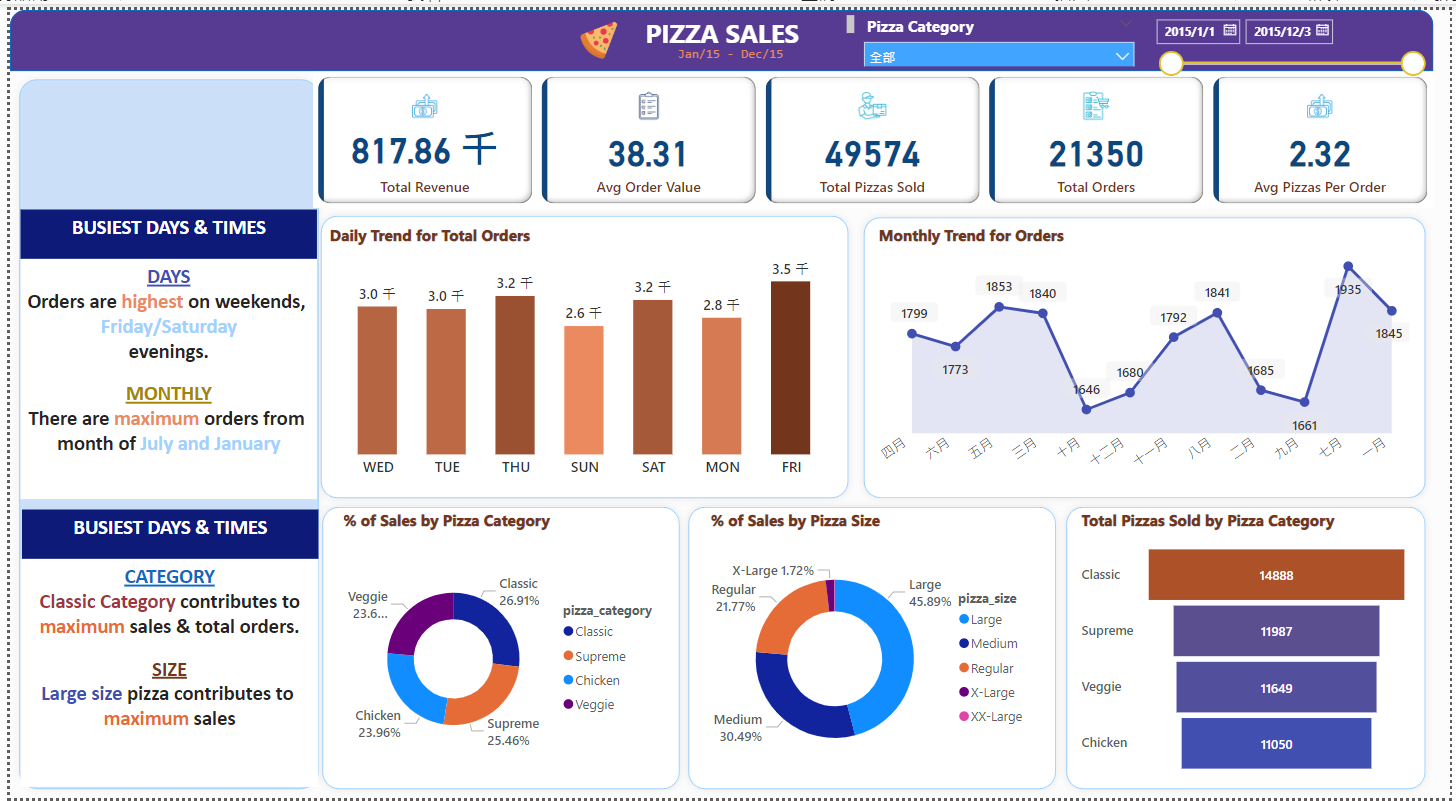

This screenshot's page, from the dashboard's own definition file:
{"tool":"powerbi","page":{"name":"Home","canvas":[1500,820],"ordinal":0},"visuals":[{"type":"shape","box":[1.8,63.8,328,755.3],"z":0},{"type":"cardVisual","fields":{"Data":["pizza_sales.Total Revenue","pizza_sales.Avg Order Value","pizza_sales.Total Pizzas Sold","pizza_sales.Total Orders","pizza_sales.Avg Pizzas Per Order"]},"box":[316,64,1166,142],"z":1000},{"type":"shape","box":[0,0,1482.3,63.8],"z":2000},{"type":"textbox","box":[614,0,270,46],"z":3000},{"type":"textbox","box":[689.7,30.1,124.1,33.7],"z":4000},{"type":"image","box":[586,6,54,50],"z":5000},{"type":"shape","box":[315.6,205.7,565.6,310.3],"z":6000},{"type":"columnChart","title":"Daily Trend for Total Orders","fields":{"Category":["pizza_sales.Order Day"],"Y":["pizza_sales.Total Orders"]},"box":[328,223.4,540.8,273],"z":7000},{"type":"shape","box":[881.2,207.4,601.1,308.5],"z":8000},{"type":"areaChart","title":"Monthly Trend for Orders","fields":{"Category":["pizza_sales.Order Month "],"Y":["pizza_sales.Total Orders"]},"box":[898.9,223.4,562.1,273],"z":9000},{"type":"shape","box":[698.6,508.9,398.9,310.3],"z":10000},{"type":"shape","box":[317.4,508.9,388.3,310.3],"z":11000},{"type":"shape","box":[1092.2,508.9,390.1,310.3],"z":12000},{"type":"donutChart","title":"% of Sales by Pizza Category","fields":{"Category":["pizza_sales.pizza_category"],"Y":["pizza_sales.Total Revenue"]},"box":[342.2,519.5,347.5,289],"z":13000},{"type":"donutChart","title":"% of Sales by Pizza Size","fields":{"Y":["pizza_sales.Total Revenue"],"Category":["pizza_sales.pizza_size"]},"box":[725.2,519.5,347.5,289],"z":14000},{"type":"funnel","title":"Total Pizzas Sold by Pizza Category","fields":{"Category":["pizza_sales.pizza_category"],"Y":["pizza_sales.Total Pizzas Sold"]},"box":[1109.9,519.5,351.1,289],"z":15000},{"type":"textbox","box":[10.6,207.4,308.5,51.4],"z":16000},{"type":"textbox","box":[10.6,258.9,308.5,250],"z":17000},{"type":"textbox","box":[12.4,519.5,308.5,51.4],"z":18000},{"type":"textbox","box":[10.6,570.9,310.3,237.6],"z":18001},{"type":"slicer","fields":{"Values":["pizza_sales.pizza_category"]},"box":[879.4,0,301.4,58.5],"z":18002},{"type":"slicer","fields":{"Values":["pizza_sales.order_date"]},"box":[1180.9,0,301.4,81.6],"z":18003}]}

Visuals, with their boxes in screenshot pixels (x1, y1, x2, y2), scaled from the page's 1500x820 canvas onto the 1456x801 screenshot:
shape: (2,62,320,800)
cardVisual - pizza_sales.Total Revenue x pizza_sales.Avg Order Value: (307,63,1439,201)
shape: (0,0,1439,62)
textbox: (596,0,858,45)
textbox: (669,29,790,62)
image: (569,6,621,55)
shape: (306,201,855,504)
"Daily Trend for Total Orders" columnChart: (318,218,843,485)
shape: (855,203,1439,504)
"Monthly Trend for Orders" areaChart: (873,218,1418,485)
shape: (678,497,1065,800)
shape: (308,497,685,800)
shape: (1060,497,1439,800)
"% of Sales by Pizza Category" donutChart: (332,507,669,790)
"% of Sales by Pizza Size" donutChart: (704,507,1041,790)
"Total Pizzas Sold by Pizza Category" funnel: (1077,507,1418,790)
textbox: (10,203,310,253)
textbox: (10,253,310,497)
textbox: (12,507,311,558)
textbox: (10,558,311,790)
slicer - pizza_sales.pizza_category: (854,0,1146,57)
slicer - pizza_sales.order_date: (1146,0,1439,80)
